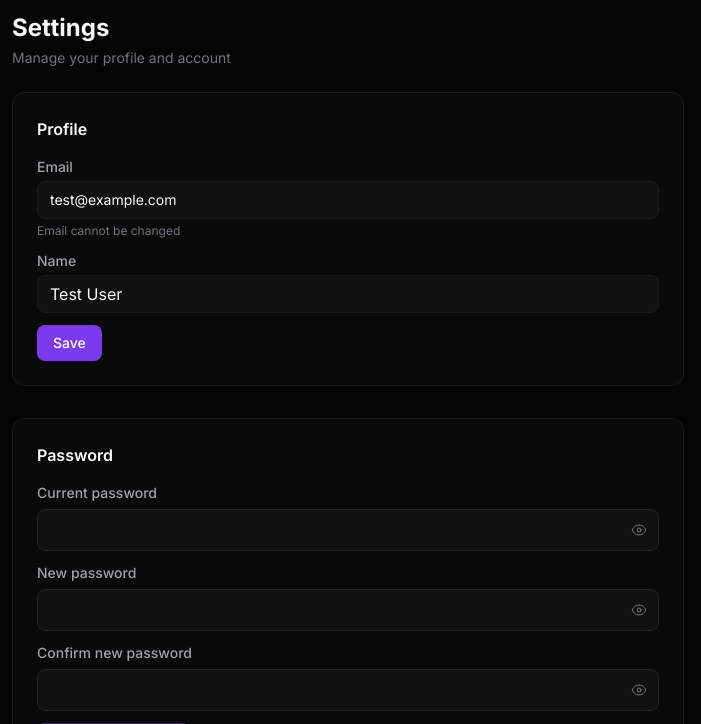
Scenario: SettingsPage › shows error when updateProfile fails
The width and height of the screenshot is (701, 724).
Replace the text in the field labelled "Name" with "New Name": (348, 294) [37,275,659,313]
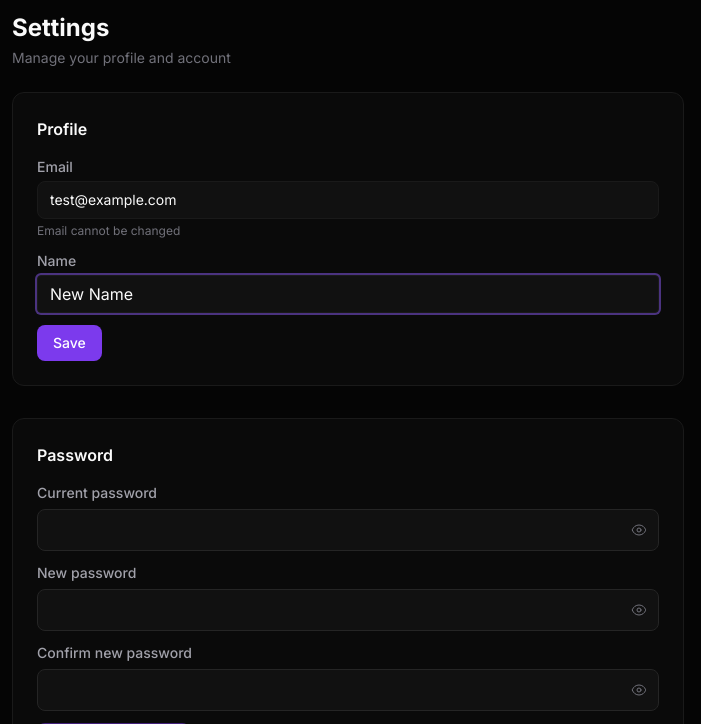
Click the button "Save": (69, 343) [37,325,102,361]
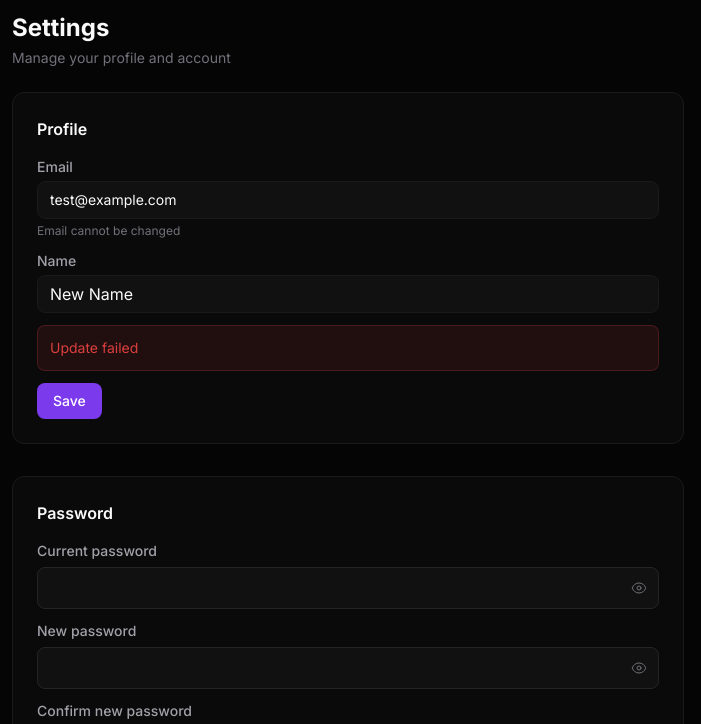
Check: the text "Update failed" is shown, box [37,325,659,371]
